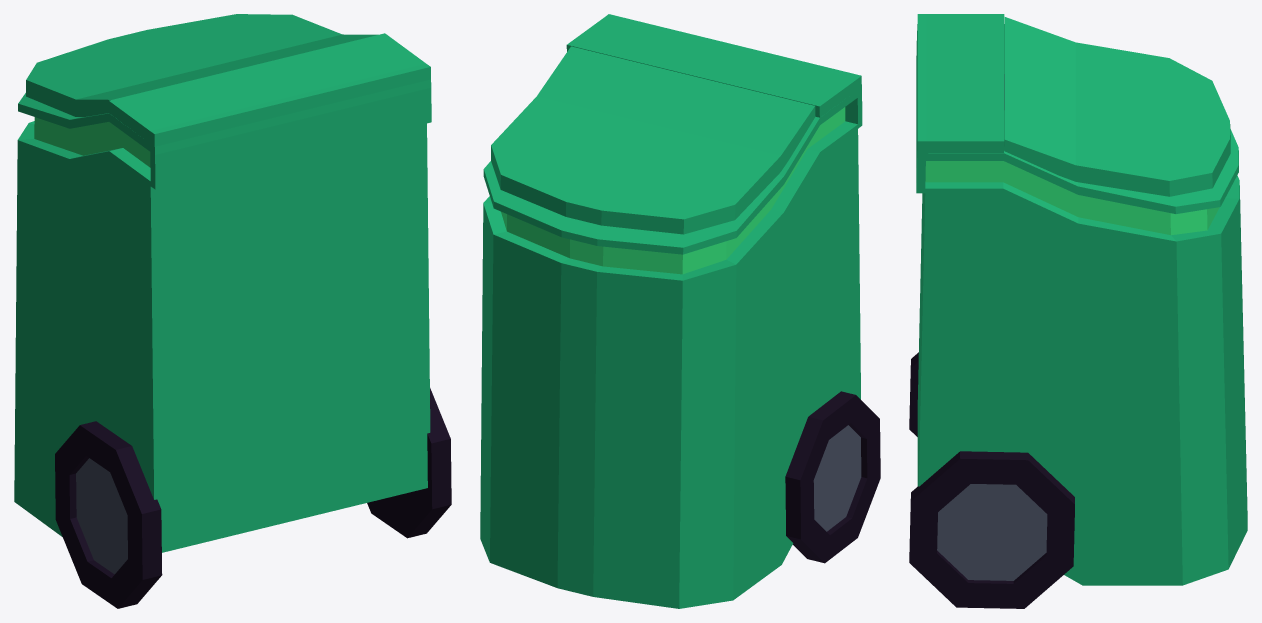
The model's file is Prop_GreenBin_Lid.fbx.
3 renders of one model, left to right at view 1: azimuth 30°, elevation 25°; view 2: azimuth 150°, elevation 25°; view 3: azimuth 270°, elevation 25°, orthographic. The views are drawn at different scales.
Parts seen in each view (by area): view 1: garbage can, Garbage can lid; view 2: garbage can, Garbage can lid; view 3: garbage can, Garbage can lid.
Boxes of the visible parts, box(x1,y1,x2,y2) form: garbage can: box(14, 33, 451, 608); Garbage can lid: box(26, 14, 378, 116); garbage can: box(480, 14, 880, 608); Garbage can lid: box(491, 46, 815, 234); garbage can: box(909, 14, 1247, 608); Garbage can lid: box(1004, 17, 1230, 196).
Size of the model in its own units: 76.41 by 115 by 76.67.
